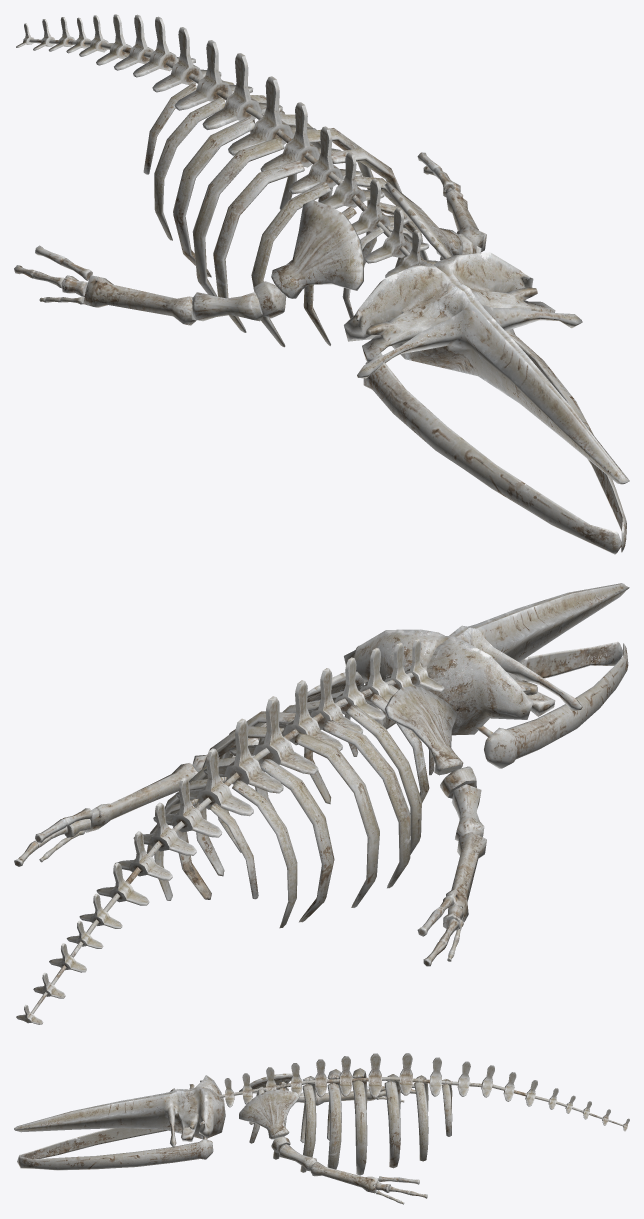
Rendered from SM_ENV_SkelettonWhale.fbx.
3 renders of one model, top to bottom at view 1: azimuth 30°, elevation 25°; view 2: azimuth 150°, elevation 25°; view 3: azimuth 270°, elevation 25°, orthographic. The views are drawn at different scales.
Parts seen in each view (by area): view 1: Whale_Skeleton; view 2: Whale_Skeleton; view 3: Whale_Skeleton.
Boxes of the visible parts, x1,y1,x2,y2 form: Whale_Skeleton: [14, 14, 629, 554]; Whale_Skeleton: [14, 583, 629, 1024]; Whale_Skeleton: [14, 1053, 629, 1204].
Bounding box in the file's own units: 338 × 172 × 844.
